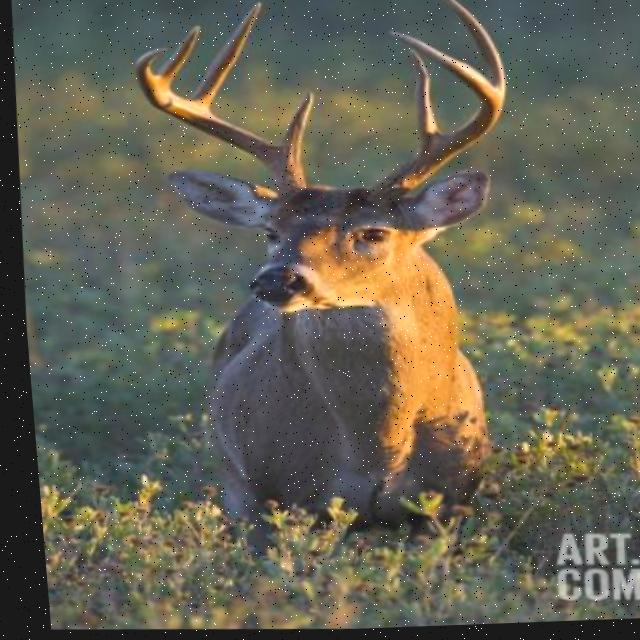L-F: (363, 31, 504, 211)
L-G1: (406, 53, 442, 158)
L-G2: (437, 0, 504, 96)
R-F: (131, 47, 303, 203)
R-G1: (273, 92, 313, 159)
R-G2: (185, 1, 264, 114)
R-G3: (152, 25, 202, 89)
